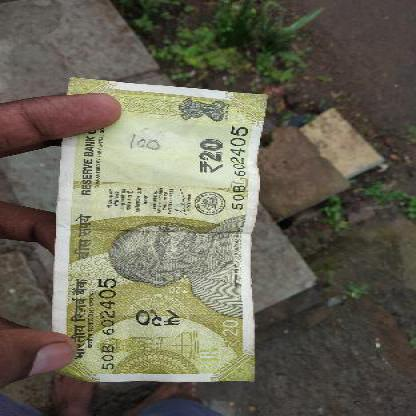New20Front: (55, 78, 260, 380)
